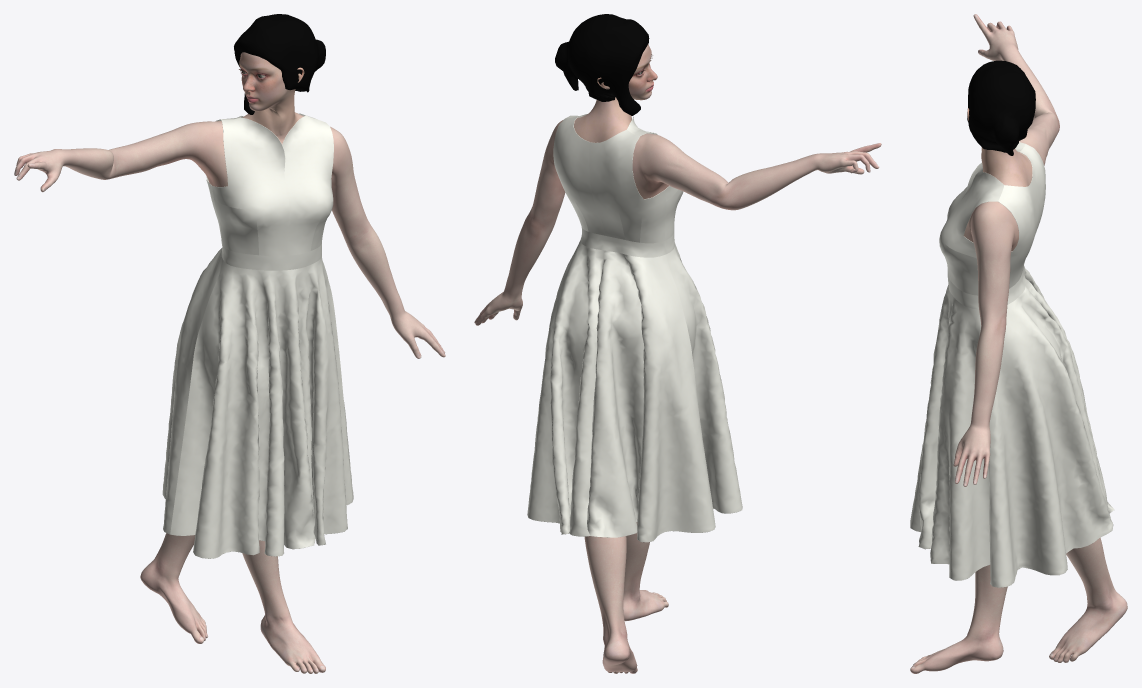
Rendered from Custom_View_0__Dynamic.obj.
3 views of the same model, side by side, from view 1: azimuth 30°, elevation 25°; view 2: azimuth 150°, elevation 25°; view 3: azimuth 270°, elevation 25° (orthographic). The views are drawn at different scales.
Bounding box in the file's own units: 1226 × 1775 × 569.
